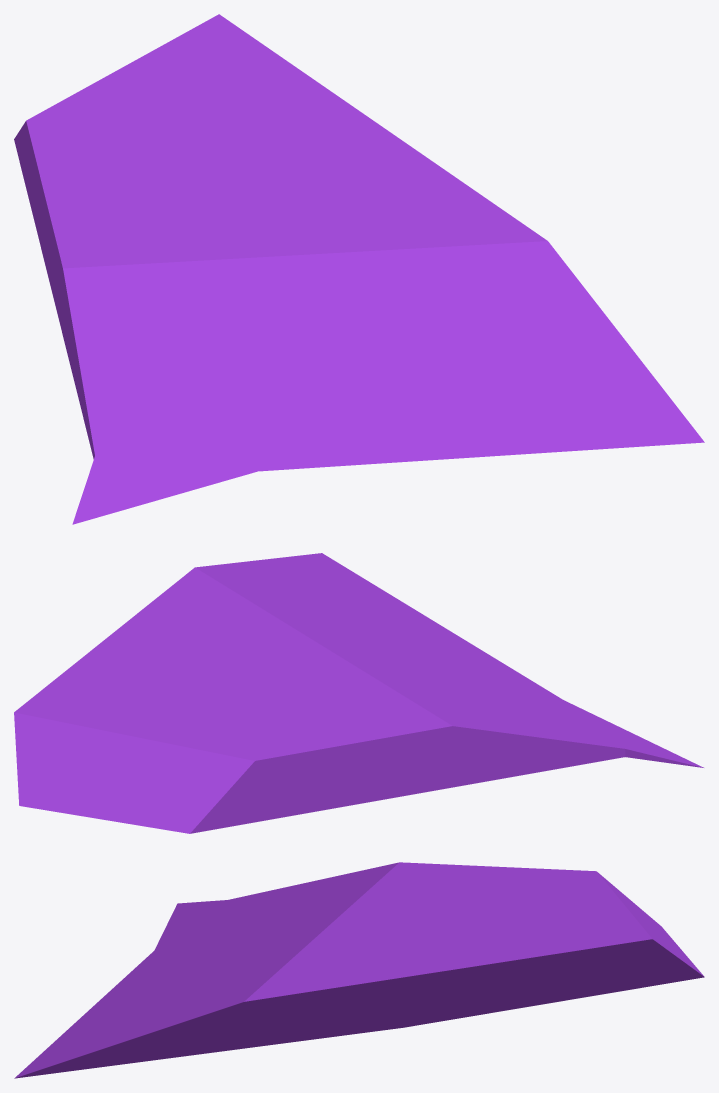
Rendered from Glass_100_2_0_chunks.fbx.
The picture shows the model from 3 angles, top to bottom: view 1: azimuth 30°, elevation 25°; view 2: azimuth 150°, elevation 25°; view 3: azimuth 270°, elevation 25°; orthographic projection. The views are drawn at different scales.
Parts seen in each view (by area): view 1: Glass_100_2_0_0; view 2: Glass_100_2_0_0; view 3: Glass_100_2_0_0.
Part boxes in pixels (left/top/right/bottom): Glass_100_2_0_0: left=14, top=14, right=704, bottom=524; Glass_100_2_0_0: left=14, top=553, right=703, bottom=833; Glass_100_2_0_0: left=14, top=862, right=704, bottom=1078.
Bounding box in the file's own units: 338 × 107 × 496.
